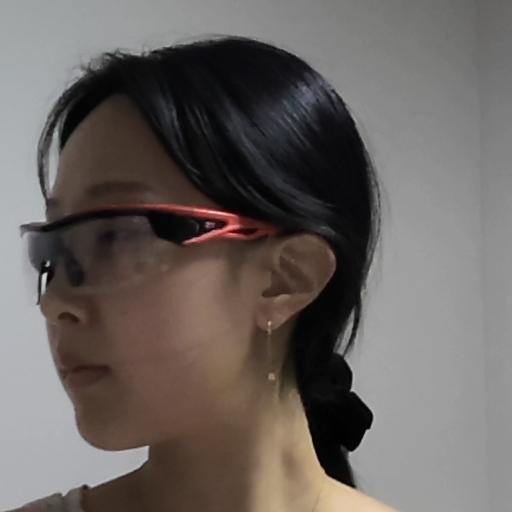glasses: (11, 42, 379, 460)
